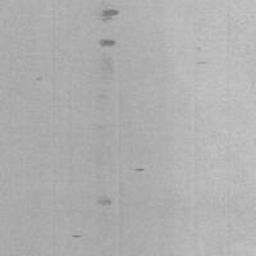Oil spot: (99, 8, 120, 23), (97, 37, 118, 49), (96, 193, 113, 206), (131, 168, 146, 173)
